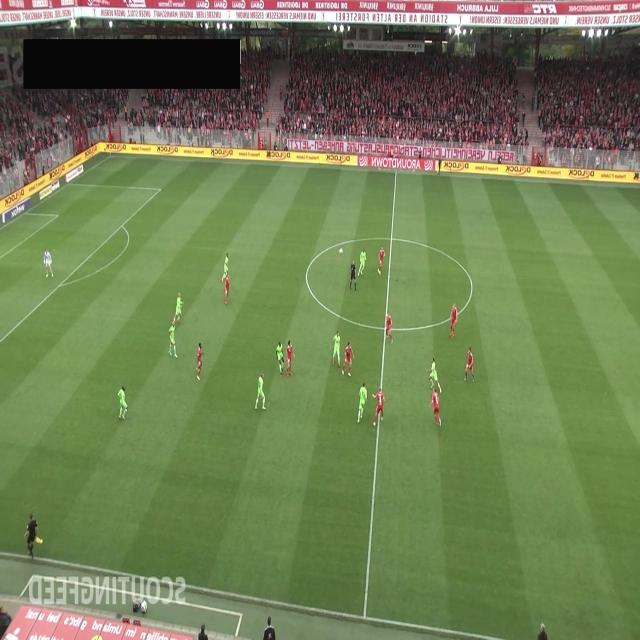goalkeeper: (44, 248, 54, 278)
player: (371, 386, 385, 427), (428, 357, 442, 394), (429, 385, 441, 427), (357, 381, 368, 424), (342, 341, 354, 377), (255, 372, 266, 411), (464, 347, 475, 383), (168, 320, 178, 358), (331, 330, 341, 366), (118, 384, 128, 420), (286, 339, 295, 376), (174, 292, 184, 324), (196, 342, 204, 381), (276, 340, 284, 378), (450, 304, 458, 338), (358, 247, 367, 277), (377, 247, 386, 276), (222, 273, 230, 305), (385, 312, 393, 344), (223, 252, 229, 279)
referee: (23, 512, 43, 560), (349, 259, 357, 291), (438, 156, 442, 176)
